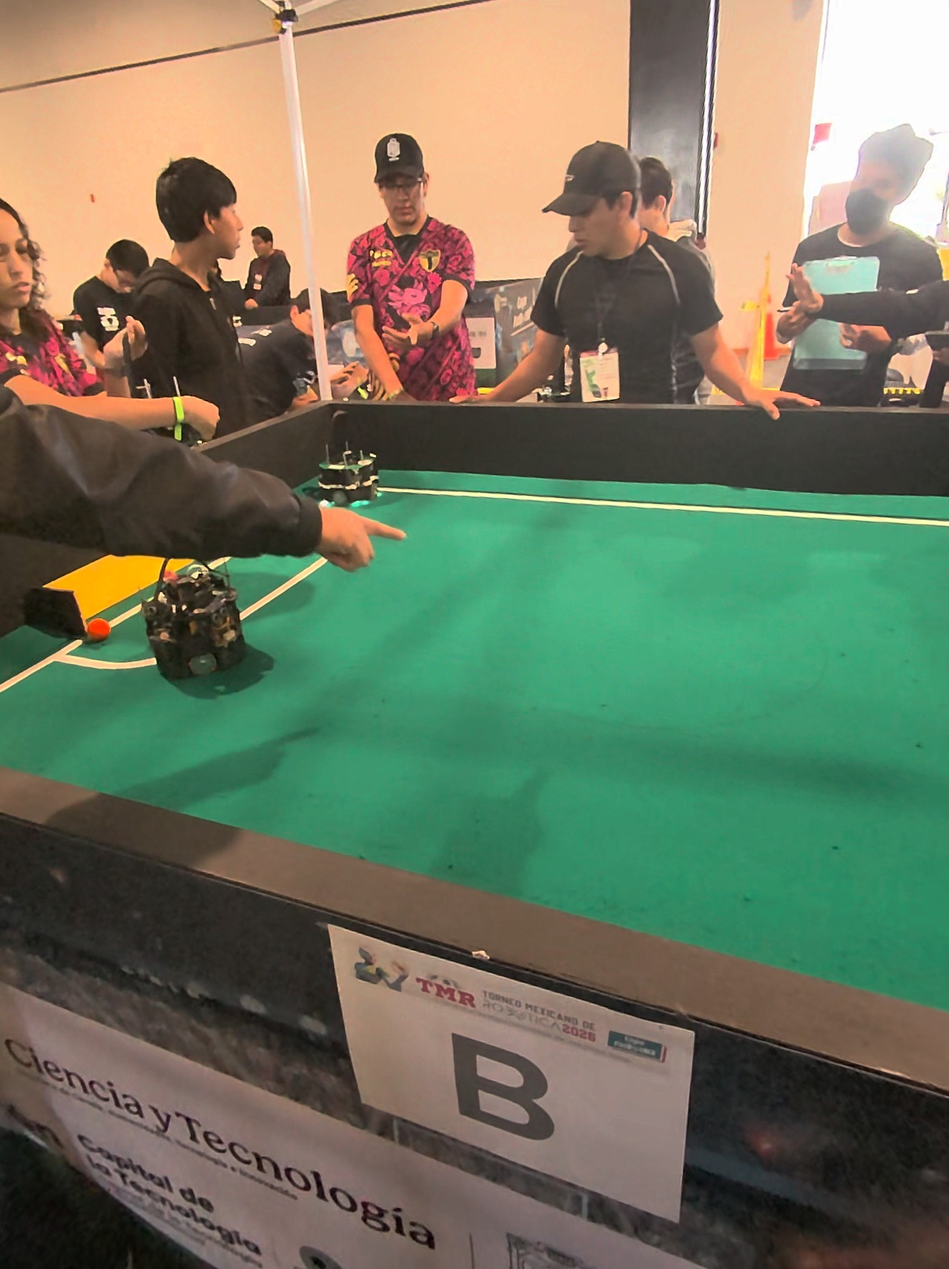Robot: (143, 552, 256, 691), (311, 407, 382, 504)
pelota: (82, 613, 103, 643)
